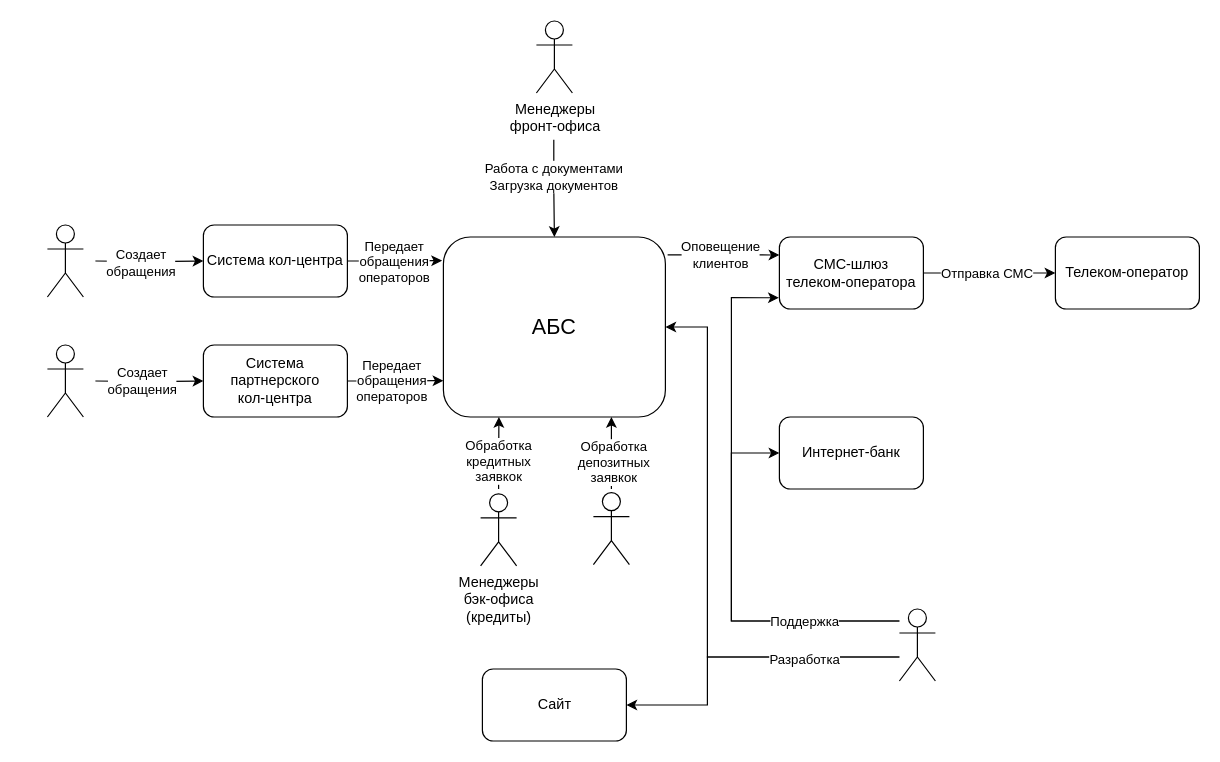
Image size: 1220x762. Some labels were removed from this diagram. Each missing label, with the box of its shape:
IT-отдел: (898, 608, 935, 681)
Менеджеры бэк-офиса (депозиты): (592, 491, 629, 565)
Операторы кол-центра: (46, 224, 83, 297)
Операторы партнерского кол-центра: (46, 344, 83, 417)
